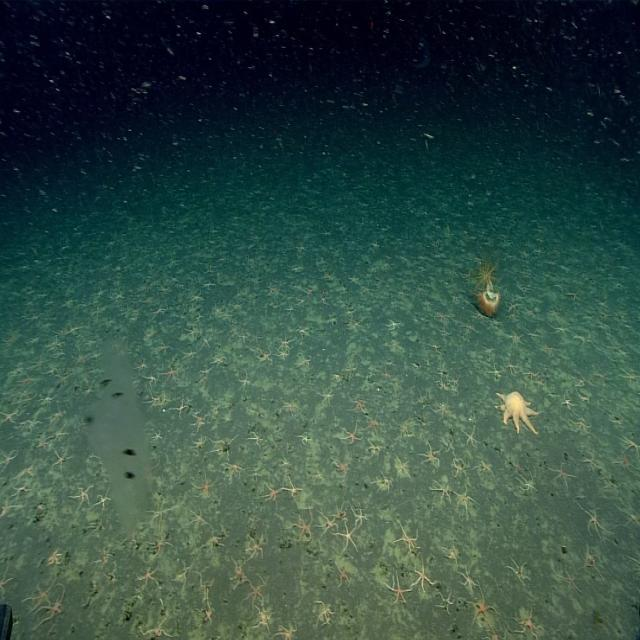brittle-stars: (467, 587, 500, 626), (578, 503, 608, 538), (43, 585, 66, 625), (241, 578, 267, 612), (516, 606, 541, 640), (146, 498, 174, 528), (140, 612, 172, 638), (386, 571, 410, 604), (292, 505, 314, 540), (27, 582, 53, 610), (410, 558, 432, 591), (507, 557, 530, 587), (395, 520, 418, 548), (548, 462, 572, 488), (584, 542, 602, 576), (136, 564, 159, 590), (245, 533, 265, 562), (195, 471, 215, 499), (339, 521, 357, 552), (72, 484, 93, 510), (454, 484, 475, 510), (557, 569, 580, 592), (458, 564, 478, 590), (431, 478, 451, 504), (51, 446, 72, 470), (341, 422, 362, 446), (619, 503, 640, 527), (420, 441, 440, 466), (314, 600, 332, 627), (207, 527, 226, 552), (394, 453, 411, 480), (151, 533, 170, 557), (187, 508, 206, 532), (374, 469, 392, 494), (13, 462, 34, 483), (211, 436, 233, 456), (516, 471, 536, 493), (230, 559, 246, 586), (436, 589, 454, 613), (581, 449, 598, 474), (319, 512, 338, 534), (570, 415, 592, 434), (254, 610, 274, 630), (433, 398, 453, 418), (0, 448, 18, 470), (275, 622, 297, 640), (462, 426, 480, 448), (351, 503, 367, 527), (11, 483, 31, 502), (621, 434, 640, 454), (94, 488, 112, 509), (336, 564, 351, 588), (284, 477, 302, 497), (614, 452, 634, 470), (334, 455, 350, 477), (366, 412, 381, 435), (226, 461, 244, 480), (264, 482, 281, 502), (277, 331, 295, 349), (281, 399, 300, 416), (47, 547, 63, 567), (620, 368, 640, 384), (73, 348, 89, 367), (508, 328, 524, 347), (548, 322, 568, 336), (162, 367, 178, 384), (349, 396, 365, 413), (318, 388, 333, 406), (504, 356, 519, 374), (379, 366, 394, 384), (67, 318, 81, 337), (512, 457, 526, 476), (40, 391, 56, 407), (297, 352, 312, 369), (174, 398, 188, 416), (399, 417, 411, 438), (248, 430, 262, 448), (144, 372, 159, 388), (489, 362, 504, 378), (524, 326, 539, 342), (368, 441, 382, 458), (192, 415, 206, 431), (296, 324, 310, 340), (480, 460, 494, 476), (564, 288, 580, 302), (258, 348, 271, 365), (240, 369, 250, 391), (434, 311, 450, 324), (192, 435, 206, 449), (361, 282, 375, 296), (276, 347, 289, 362), (210, 354, 226, 366), (430, 340, 442, 356), (386, 318, 402, 330), (212, 300, 224, 316), (156, 341, 170, 354), (95, 285, 108, 299), (183, 347, 198, 359), (201, 333, 213, 348), (562, 394, 574, 409), (203, 605, 214, 621), (190, 290, 203, 302), (186, 325, 198, 338), (280, 456, 290, 471), (549, 308, 561, 320), (201, 364, 211, 377), (449, 374, 459, 387), (252, 332, 262, 345), (151, 430, 162, 441), (534, 378, 546, 388), (349, 273, 359, 284), (297, 296, 306, 307)
